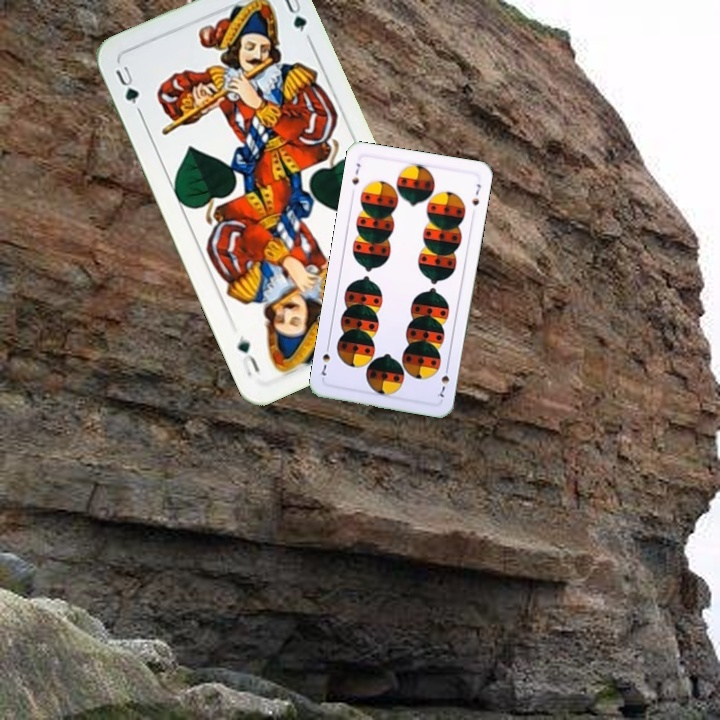GU: (111, 59, 142, 107)
S7: (433, 361, 452, 401), (348, 159, 363, 187)
